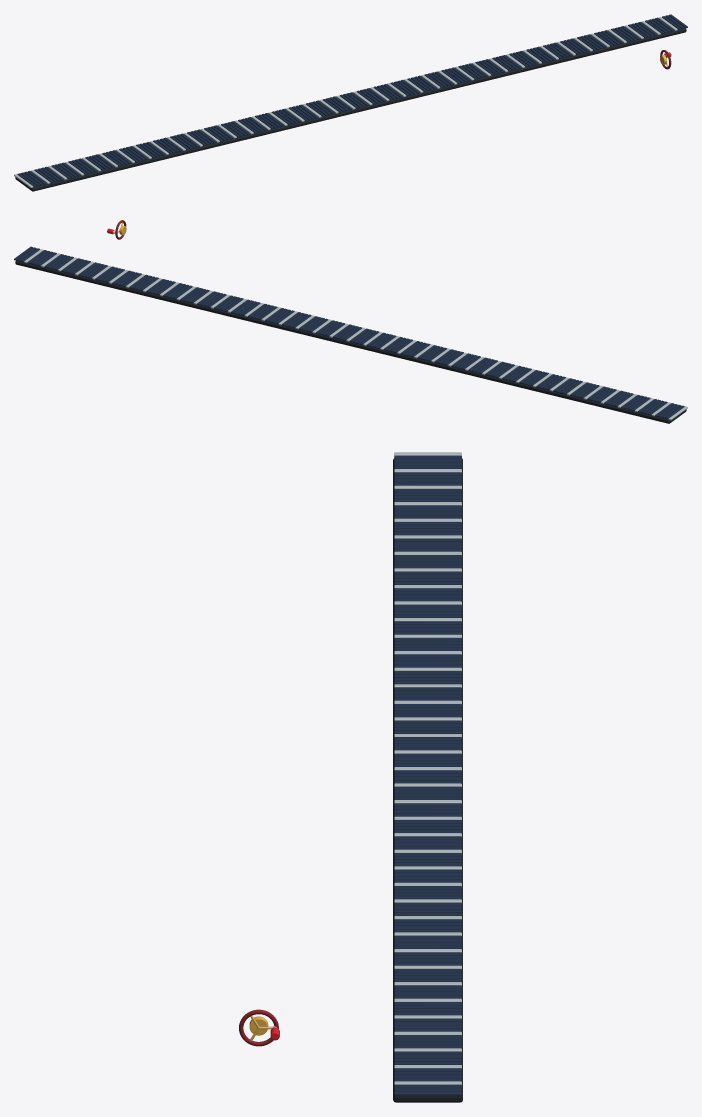
File: conveyor-current.glb
3 views of the same model, one above another, from view 1: azimuth 30°, elevation 25°; view 2: azimuth 150°, elevation 25°; view 3: azimuth 270°, elevation 25° (orthographic). The views are drawn at different scales.
Parts seen in each view (by area): view 1: WEB / continuous belt bed; view 2: WEB / continuous belt bed; view 3: WEB / continuous belt bed.
Boxes of the visible parts, bbox=[...] form: WEB / continuous belt bed: bbox=[15, 28, 686, 191]; WEB / continuous belt bed: bbox=[15, 260, 686, 423]; WEB / continuous belt bed: bbox=[393, 458, 462, 1102].
Bounding box in the file's own units: 30.78 × 0.896 × 4.55.
